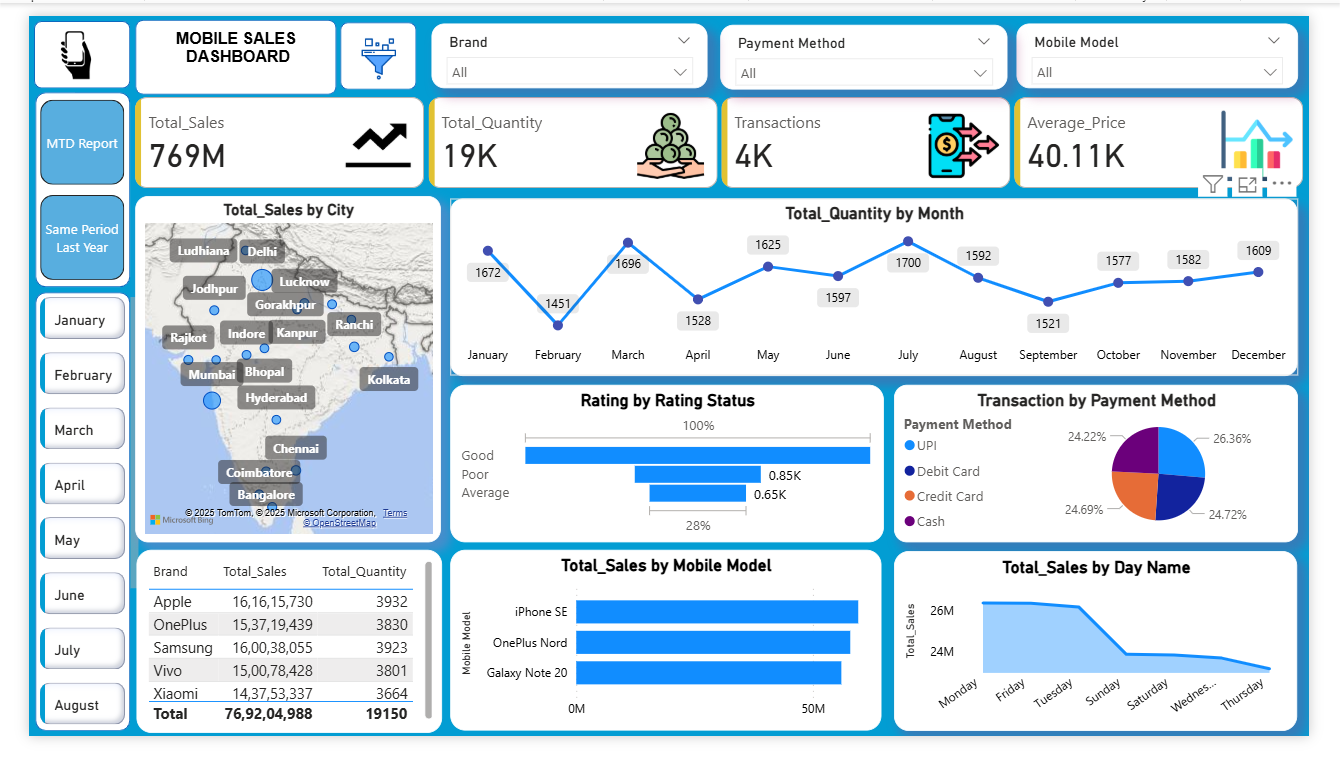

This screenshot's page, from the dashboard's own definition file:
{"tool":"powerbi","page":{"name":"Dashboard","canvas":[1280,720],"ordinal":0},"visuals":[{"type":"shape","box":[5,5,96.2,67.5],"z":0},{"type":"image","box":[16.2,8.8,61.2,61.2],"z":1000},{"type":"shape","box":[6.2,76.2,95,195],"z":2000},{"type":"shape","box":[6.2,276.2,95,438.8],"z":3000},{"type":"advancedSlicerVisual","fields":{"Values":["Custom_Calender.Date.Variation.Date Hierarchy.Month"]},"box":[6.2,276.2,108.8,443.8],"z":4000},{"type":"cardVisual","fields":{"Data":["Mobile_Sales_Data.Total_Sales","Mobile_Sales_Data.Total_Quantity","Mobile_Sales_Data.Transactions","Mobile_Sales_Data.Average_Price"]},"box":[101.2,76.2,1178.8,101.2],"z":5000},{"type":"slicer","fields":{"Values":["Mobile_Sales_Data.Mobile Model"]},"box":[987.5,7.5,281.2,65],"z":6000},{"type":"slicer","fields":{"Values":["Mobile_Sales_Data.Payment Method"]},"box":[691.2,8.8,287.5,65],"z":7000},{"type":"slicer","fields":{"Values":["Mobile_Sales_Data.Brand"]},"box":[402.5,7.5,276.2,65],"z":8000},{"type":"shape","box":[311.2,6.2,76.2,67.5],"z":9000},{"type":"image","box":[323.8,13.8,52.5,58.8],"z":10000},{"type":"shape","box":[106.2,3.8,201.2,75],"z":11000},{"type":"textbox","box":[115,8.8,183.8,65],"z":12000},{"type":"map","fields":{"Category":["Mobile_Sales_Data.City"],"Size":["Mobile_Sales_Data.Total_Sales"]},"box":[106.7,180,305.6,346.7],"z":13000},{"type":"lineChart","fields":{"Category":["Custom_Calender.Date.Variation.Date Hierarchy.Month"],"Y":["Mobile_Sales_Data.Total_Quantity"]},"box":[421.2,182.5,847.5,177.5],"z":14000},{"type":"funnel","title":"Rating by Rating Status","fields":{"Y":["CountNonNull(Mobile_Sales_Data.Customer Age)"],"Category":["Mobile_Sales_Data.Rating Status"]},"box":[421.2,368.8,433.8,157.5],"z":15000},{"type":"pieChart","title":"Transaction by Payment Method","fields":{"Y":["CountNonNull(Mobile_Sales_Data.Transaction ID)"],"Category":["Mobile_Sales_Data.Payment Method"]},"box":[865,368.8,403.8,157.5],"z":16000},{"type":"clusteredBarChart","fields":{"Y":["Mobile_Sales_Data.Total_Sales"],"Category":["Mobile_Sales_Data.Mobile Model"]},"box":[421.3,533.2,430.8,180.9],"z":17000},{"type":"areaChart","fields":{"Y":["Mobile_Sales_Data.Total_Sales"],"Category":["Custom_Calender.Day Name"]},"box":[865.2,535.5,403.4,179.7],"z":18000},{"type":"tableEx","fields":{"Values":["Mobile_Sales_Data.Brand","Mobile_Sales_Data.Total_Sales","Mobile_Sales_Data.Total_Quantity"]},"box":[107.1,533.2,305.9,183.3],"z":19000},{"type":"pageNavigator","box":[10.7,83.3,84.5,180.9],"z":20000}]}

Visuals, with their boxes in screenshot pixels (x1, y1, x2, y2), scaled from the page's 1280x720 canvas onto the 1340x757 screenshot:
shape: box=[5, 5, 106, 76]
image: box=[17, 9, 81, 74]
shape: box=[6, 80, 106, 285]
shape: box=[6, 290, 106, 752]
advancedSlicerVisual - Custom_Calender.Date.Variation.Date Hierarchy.Month: box=[6, 290, 120, 756]
cardVisual - Mobile_Sales_Data.Total_Sales x Mobile_Sales_Data.Total_Quantity: box=[106, 80, 1339, 187]
slicer - Mobile_Sales_Data.Mobile Model: box=[1034, 8, 1328, 76]
slicer - Mobile_Sales_Data.Payment Method: box=[724, 9, 1025, 78]
slicer - Mobile_Sales_Data.Brand: box=[421, 8, 711, 76]
shape: box=[326, 7, 406, 77]
image: box=[339, 15, 394, 76]
shape: box=[111, 4, 322, 83]
textbox: box=[120, 9, 313, 78]
map - Mobile_Sales_Data.City x Mobile_Sales_Data.Total_Sales: box=[112, 189, 432, 554]
lineChart - Custom_Calender.Date.Variation.Date Hierarchy.Month x Mobile_Sales_Data.Total_Quantity: box=[441, 192, 1328, 378]
"Rating by Rating Status" funnel: box=[441, 388, 895, 553]
"Transaction by Payment Method" pieChart: box=[906, 388, 1328, 553]
clusteredBarChart - Mobile_Sales_Data.Total_Sales x Mobile_Sales_Data.Mobile Model: box=[441, 561, 892, 751]
areaChart - Mobile_Sales_Data.Total_Sales x Custom_Calender.Day Name: box=[906, 563, 1328, 752]
tableEx - Mobile_Sales_Data.Brand x Mobile_Sales_Data.Total_Sales: box=[112, 561, 432, 753]
pageNavigator: box=[11, 88, 100, 278]
